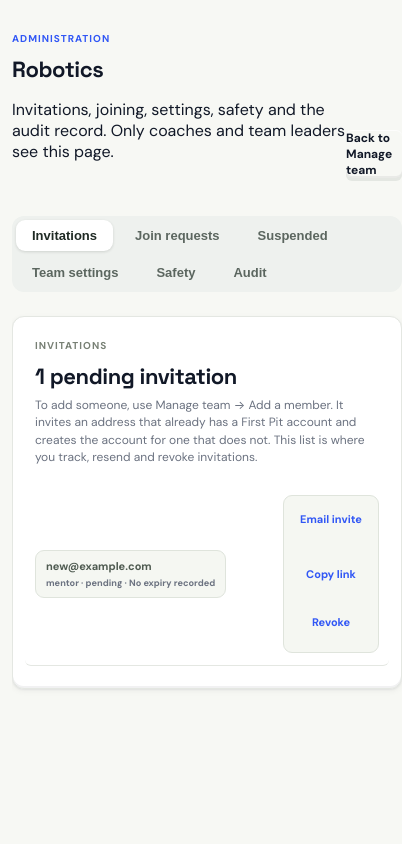
Test: AdministrationPage › keeps the queue working when a reported question can no longer be read
Click the tab "Safety": (176,272) [140,257,212,288]
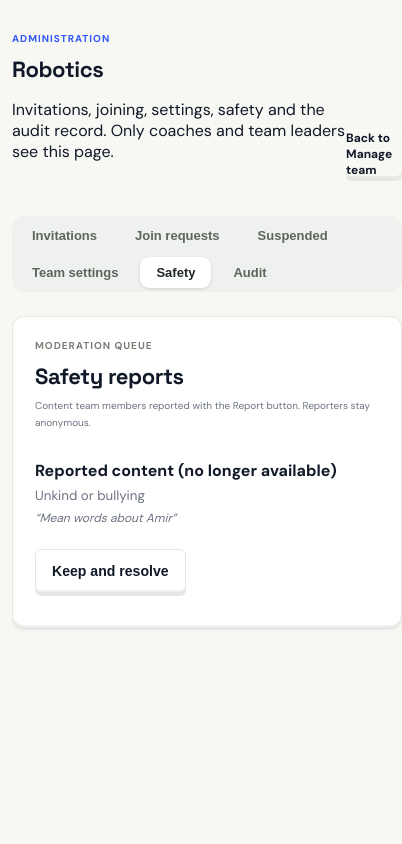
Result: the text "Reported content (no longer available)" is shown at [35,460,379,481]
Result: the button "Keep and resolve" is shown at [35,549,186,593]
